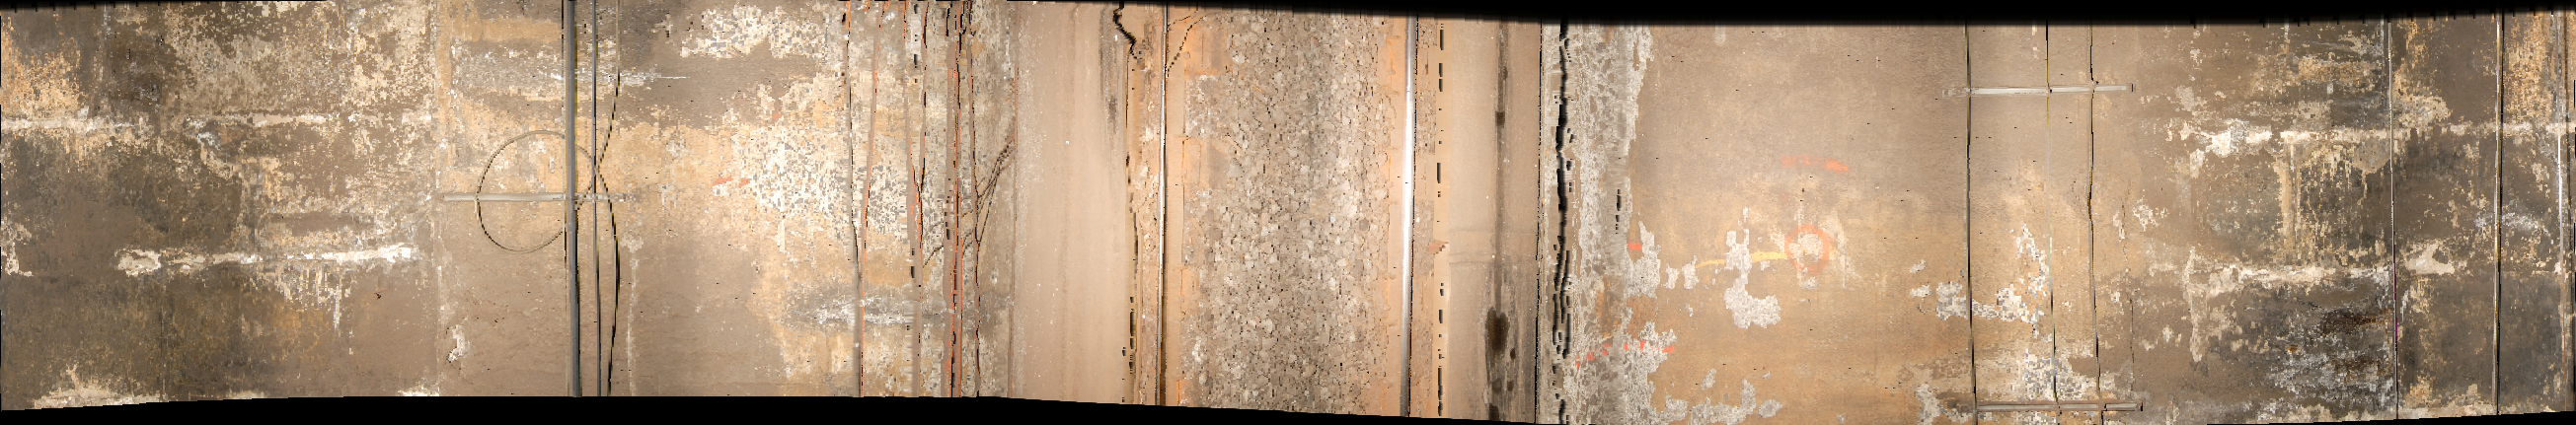pipes: (557, 2, 583, 423), (1960, 28, 1983, 425), (2086, 31, 2109, 425), (2494, 16, 2512, 425)
tracks: (976, 2, 1549, 425)
